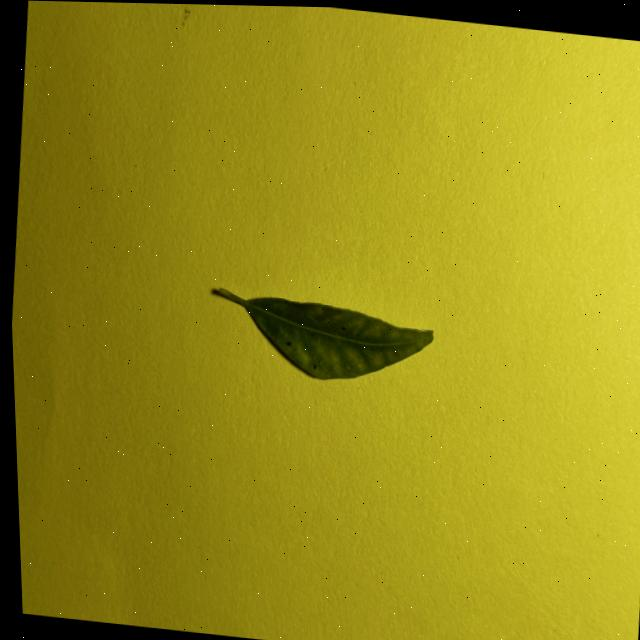greening: (217, 288, 432, 379)
